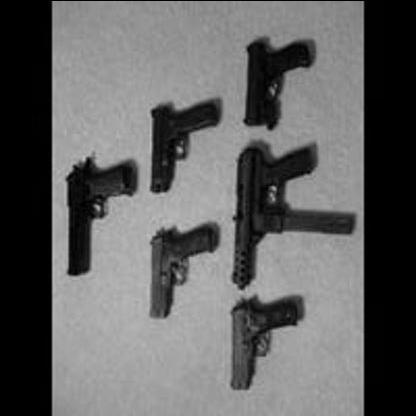weapon: (229, 133, 357, 289), (67, 149, 137, 281), (239, 26, 320, 135), (147, 212, 219, 328), (228, 292, 311, 392), (142, 90, 219, 190)
